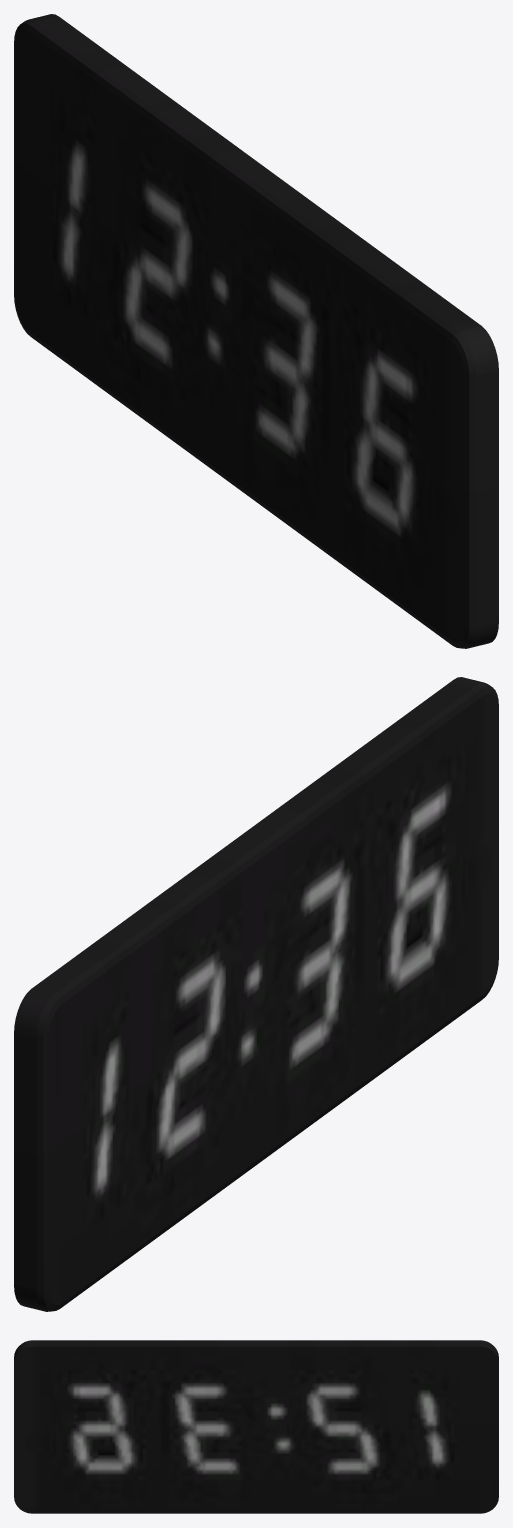
The model's file is baking_16.glb.
3 views of the same model, one above another, from view 1: azimuth 30°, elevation 25°; view 2: azimuth 150°, elevation 25°; view 3: azimuth 270°, elevation 25° (orthographic). The views are drawn at different scales.
Visible parts, largest first — view 1: StaticMeshActor_9_004; view 2: StaticMeshActor_9_004; view 3: StaticMeshActor_9_004.
Boxes of the visible parts, x1,y1,x2,y2 form: StaticMeshActor_9_004: (14,14,498,648); StaticMeshActor_9_004: (14,677,498,1311); StaticMeshActor_9_004: (14,1340,498,1513).
Size of the model in its own units: 0.002 by 0.0198 by 0.0521.
1 material, 1 textured.
